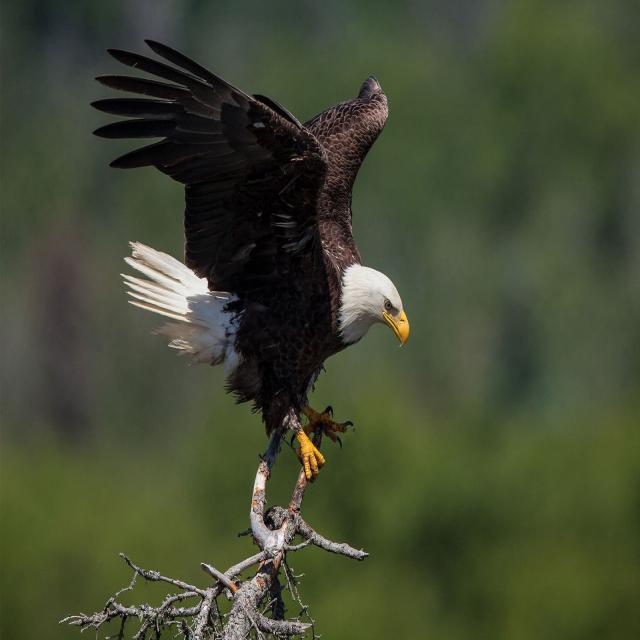Eagle: (90, 30, 412, 468)
